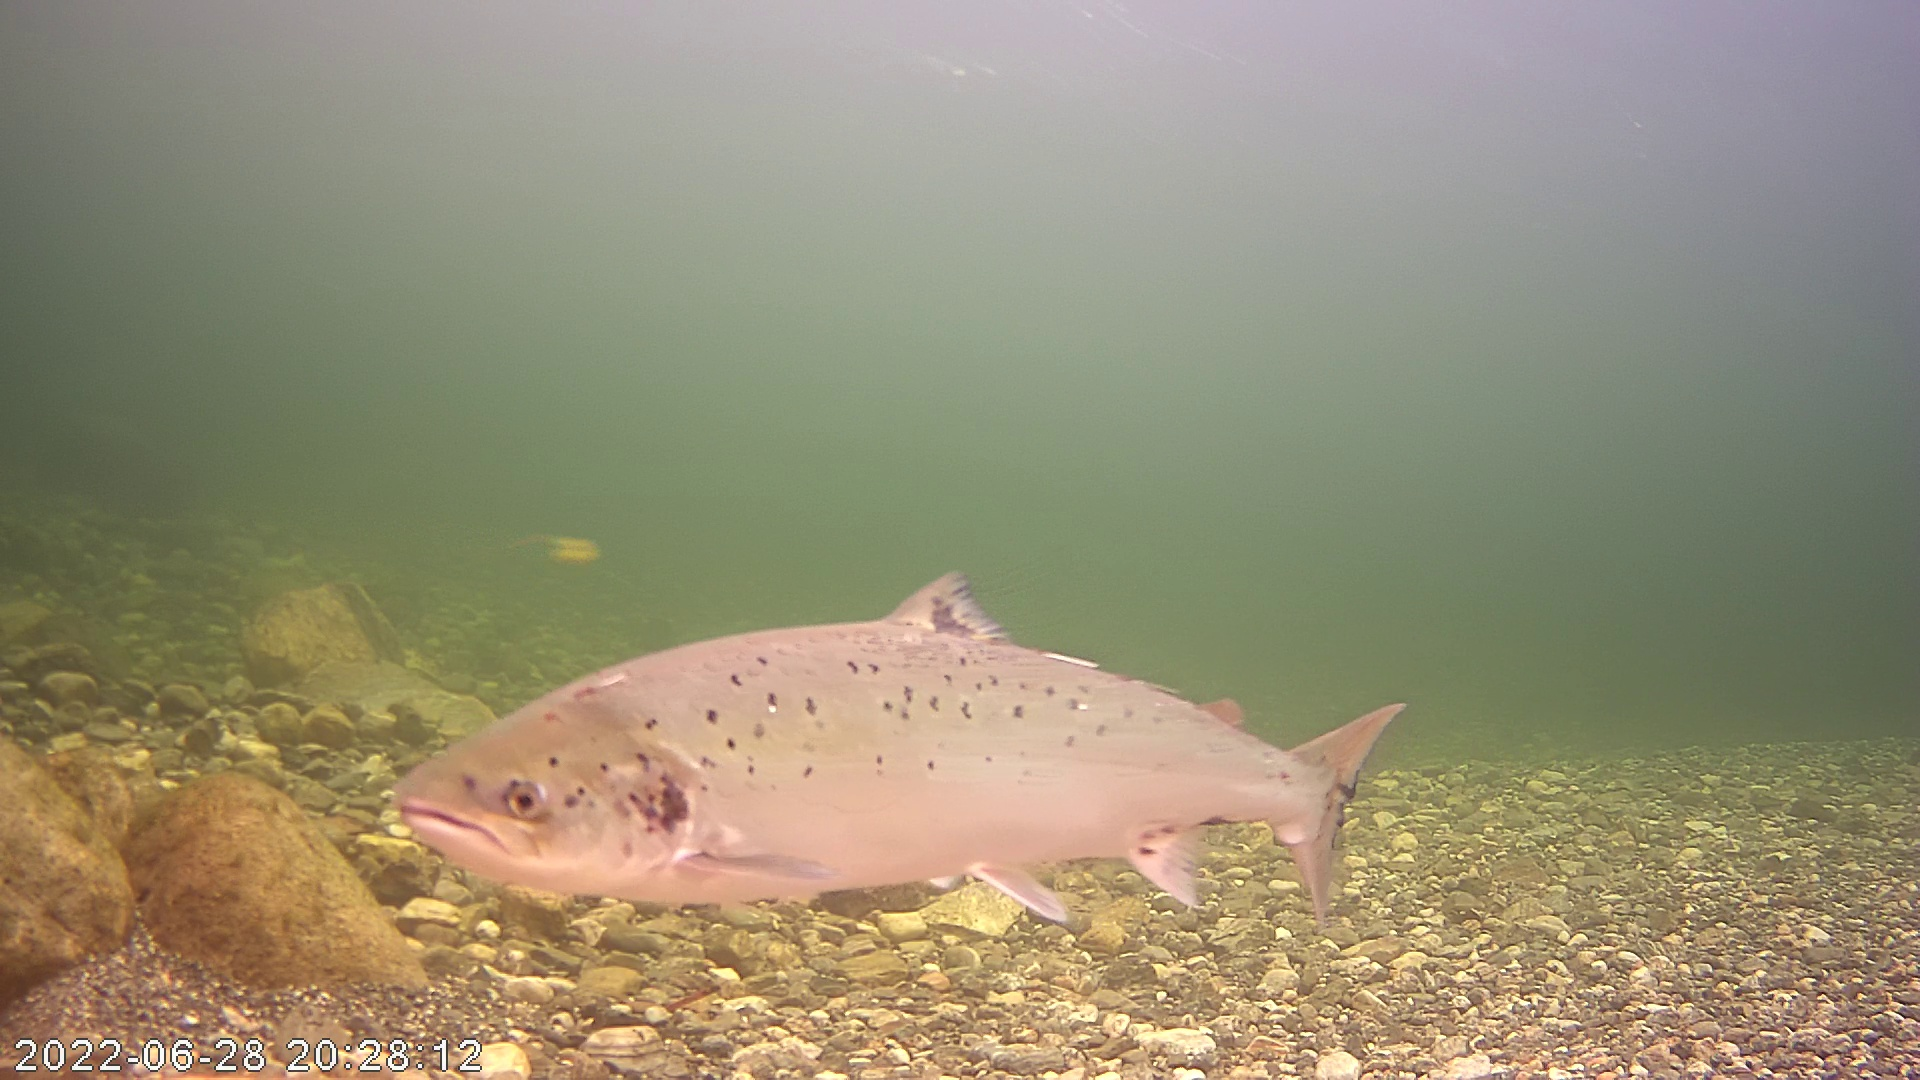salmon: (382, 566, 1408, 936)
